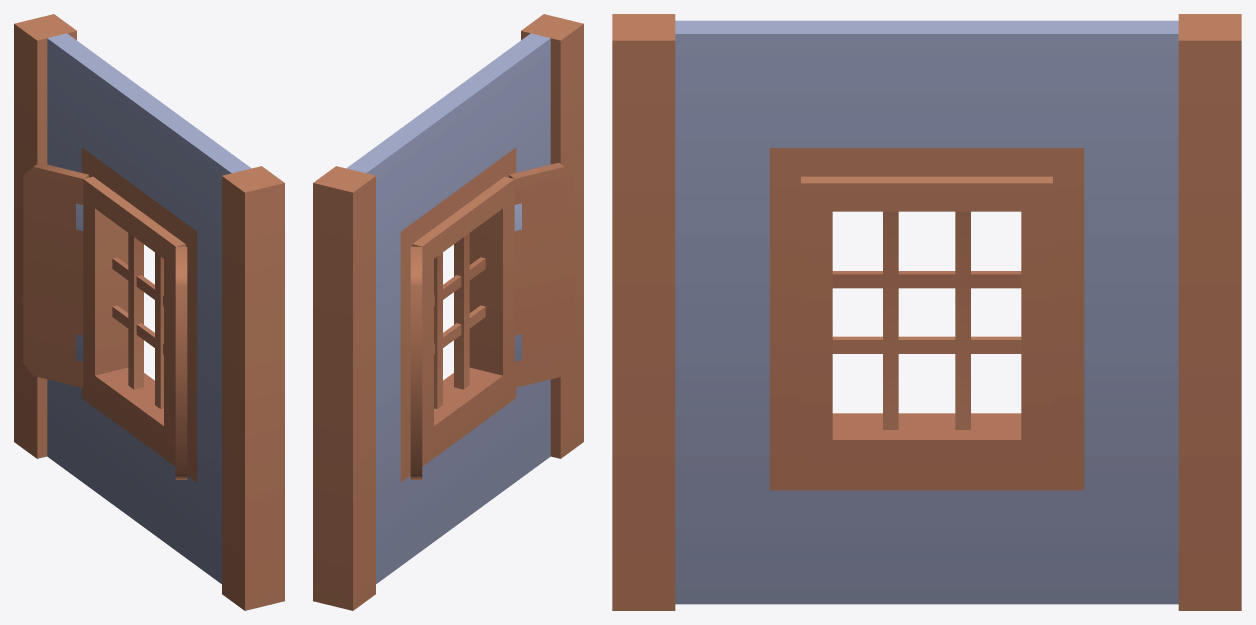
The model's file is wall-window-shutters.glb.
3 views of the same model, side by side, from view 1: azimuth 30°, elevation 25°; view 2: azimuth 150°, elevation 25°; view 3: azimuth 270°, elevation 25° (orthographic). The views are drawn at different scales.
Visible parts, largest first — view 1: wall-window-shutters; view 2: wall-window-shutters; view 3: wall-window-shutters.
Boxes of the visible parts, x1,y1,x2,y2 form: wall-window-shutters: [14, 14, 284, 610]; wall-window-shutters: [313, 14, 583, 610]; wall-window-shutters: [612, 14, 1241, 610].
Size of the model in its own units: 0.175 by 1 by 1.
Materials: 1 (1 with a texture image).
